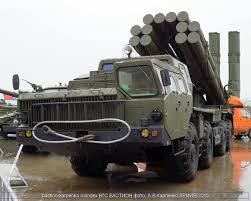MIL_SAM_TEL: (18, 7, 231, 176)
